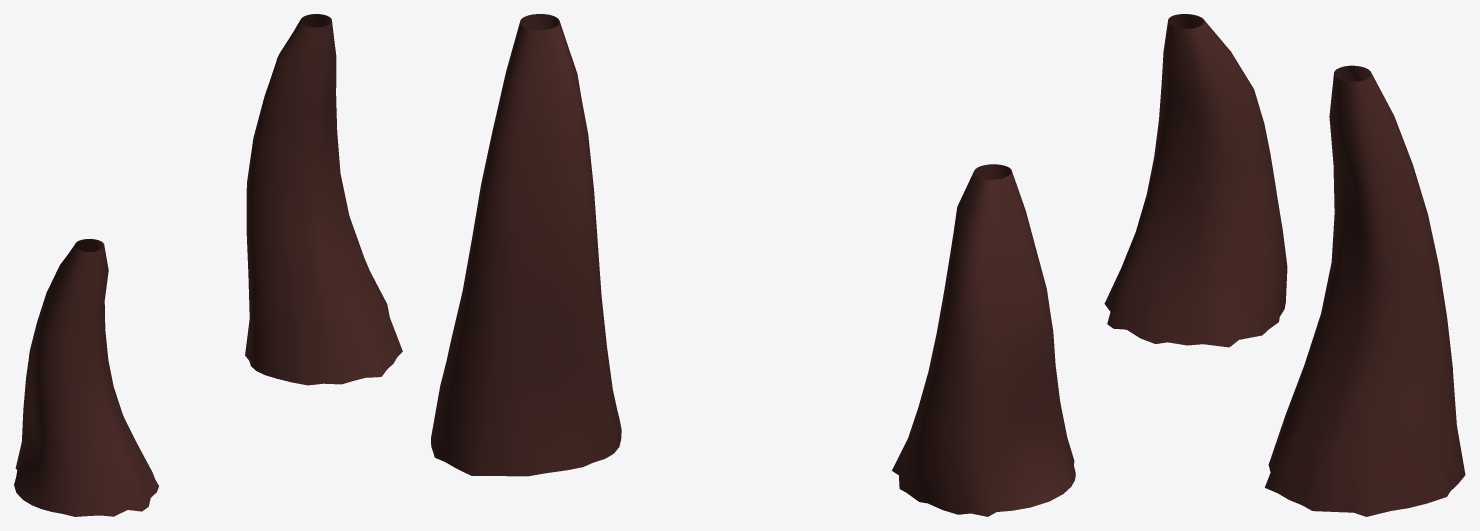
Rendered from trees.glb.
3 renders of one model, left to right at view 1: azimuth 30°, elevation 25°; view 2: azimuth 150°, elevation 25°; view 3: azimuth 270°, elevation 25°, orthographic. The views are drawn at different scales.
Parts seen in each view (by area): view 1: TropicalTree, TropicalTree.001; view 2: TropicalTree, TropicalTree.001; view 3: TropicalTree, TropicalTree.001.
Boxes of the visible parts, x1,y1,x2,y2 form: TropicalTree: (245, 14, 402, 385); TropicalTree.001: (14, 239, 158, 516); TropicalTree: (431, 14, 621, 476); TropicalTree.001: (892, 164, 1075, 516); TropicalTree: (1265, 65, 1465, 516); TropicalTree.001: (1104, 14, 1287, 347).
Bounding box in the file's own units: 5.8 × 4.39 × 3.5.
